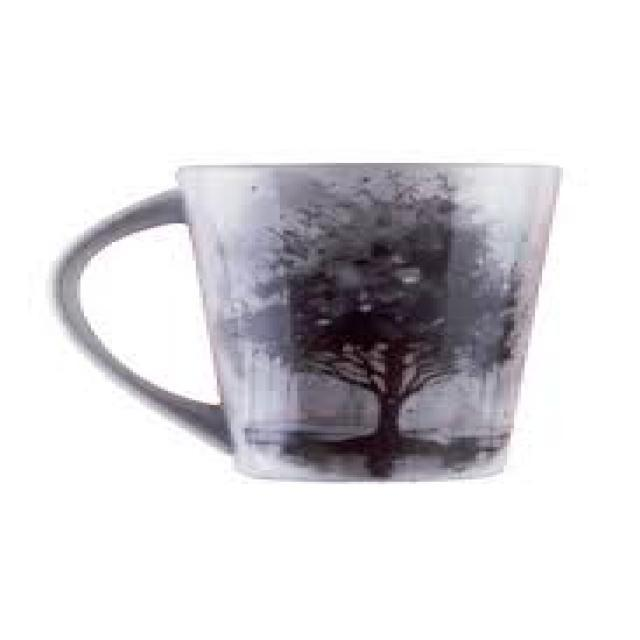taza: (50, 163, 565, 483)
